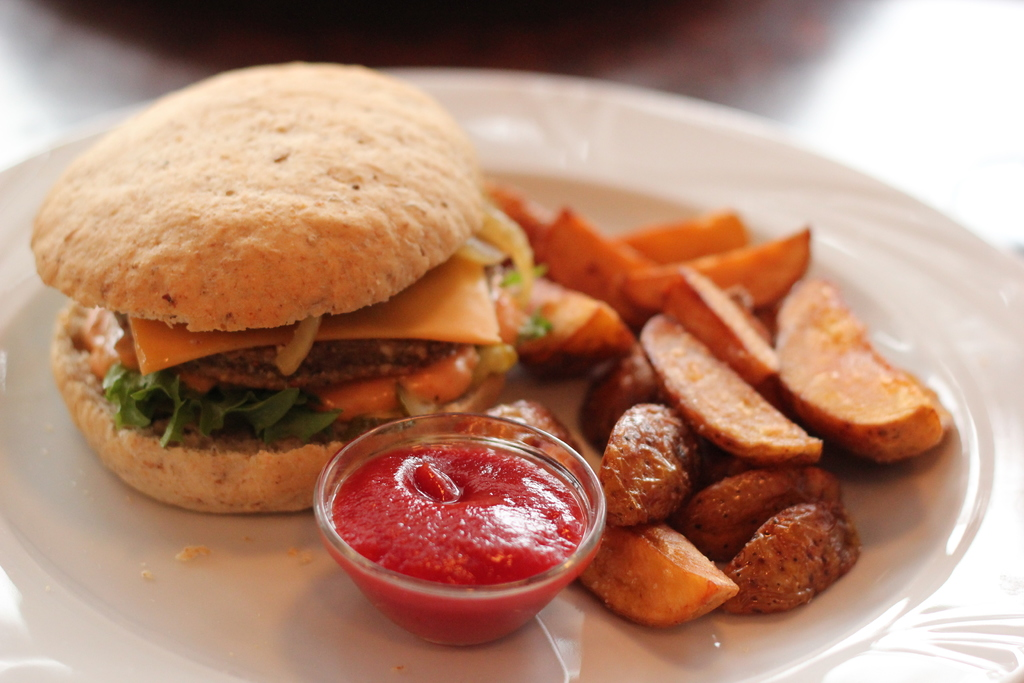Hamburger: (30, 62, 550, 514)
